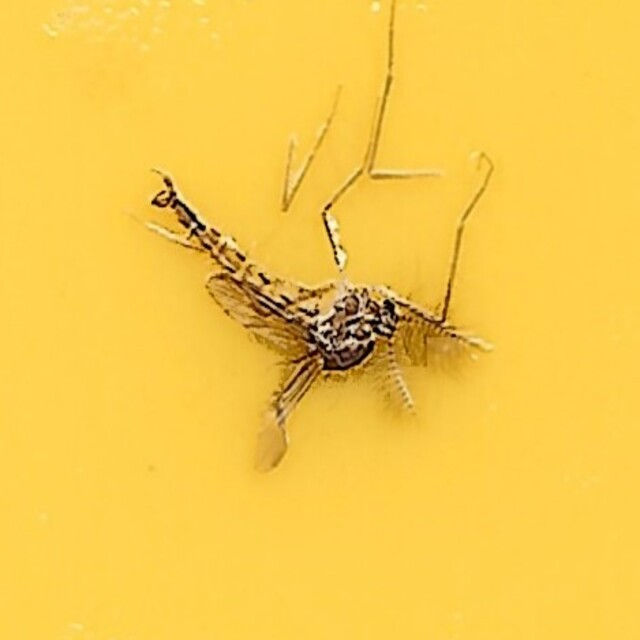Nematocera: (136, 165, 504, 475)
